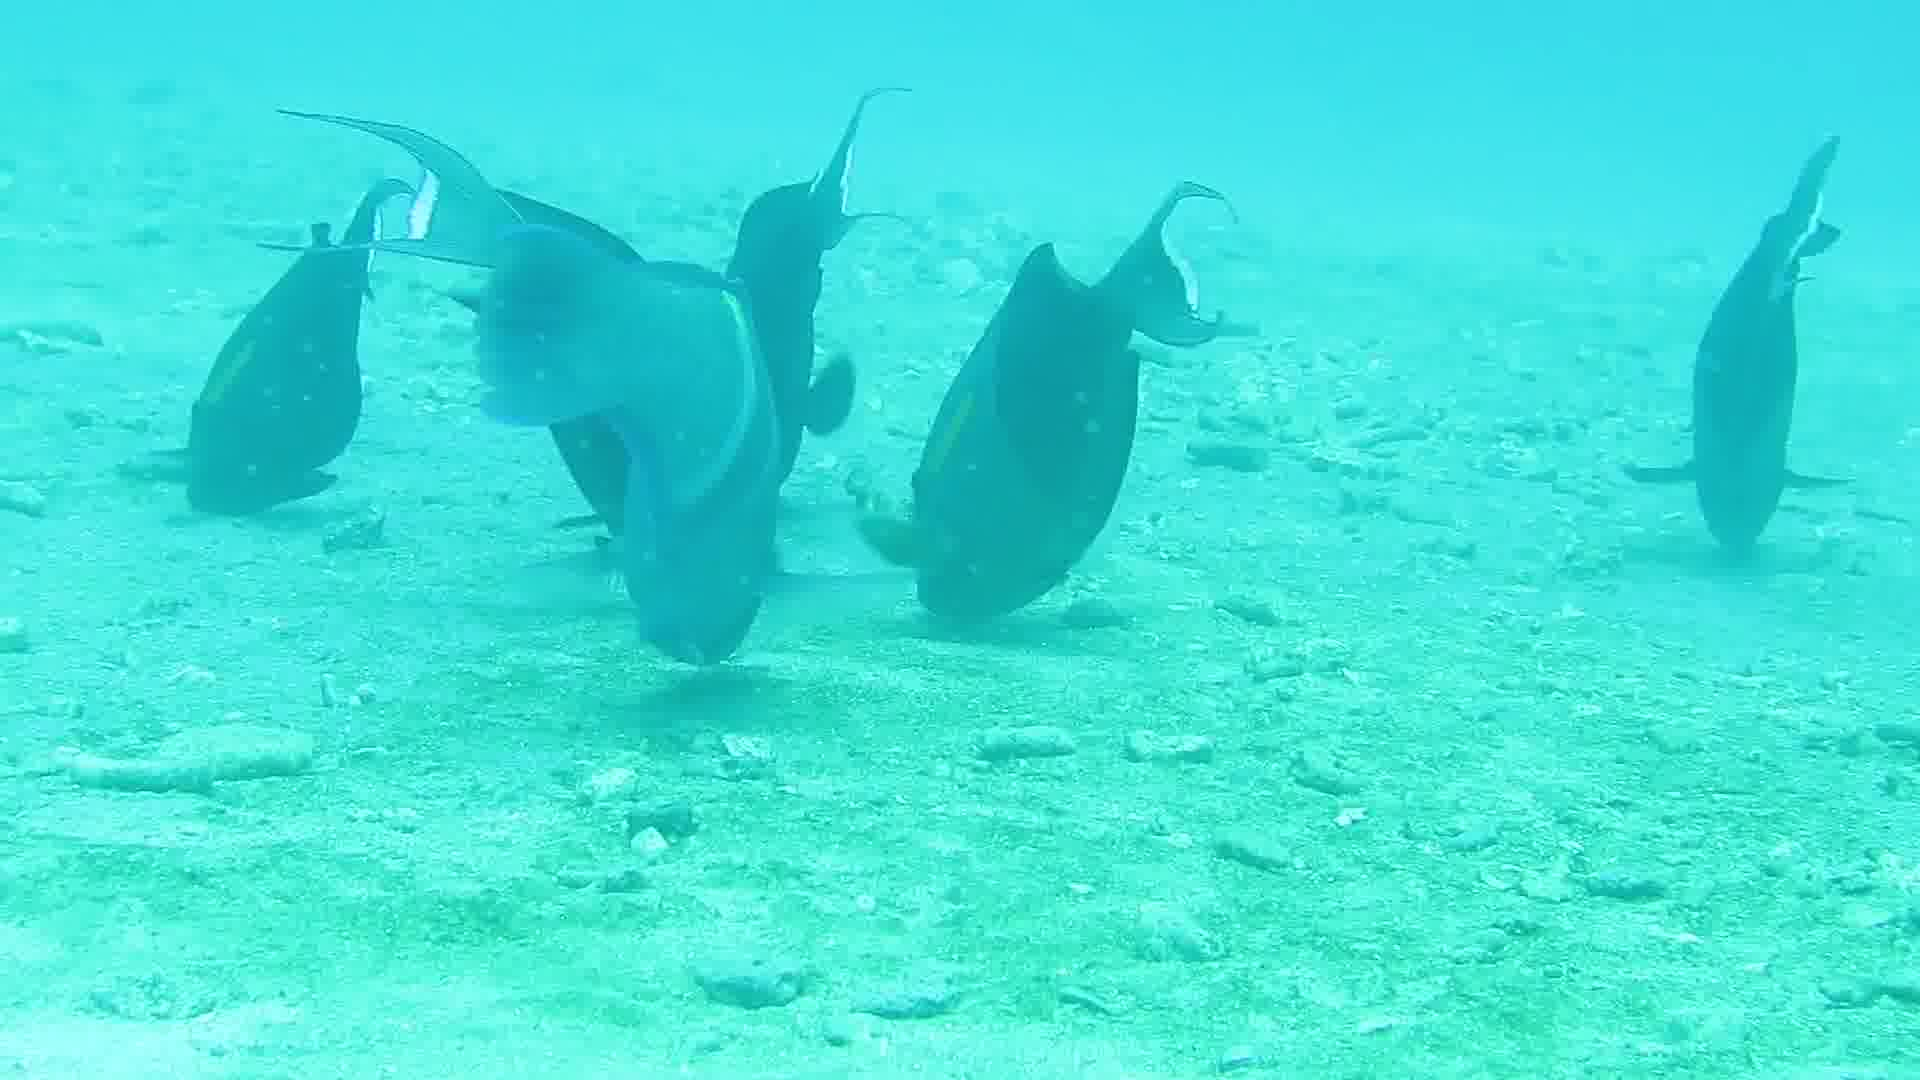Acanthurus olivaceus: (869, 210, 1189, 636), (1575, 182, 1895, 608), (550, 269, 870, 695), (108, 150, 429, 576)
